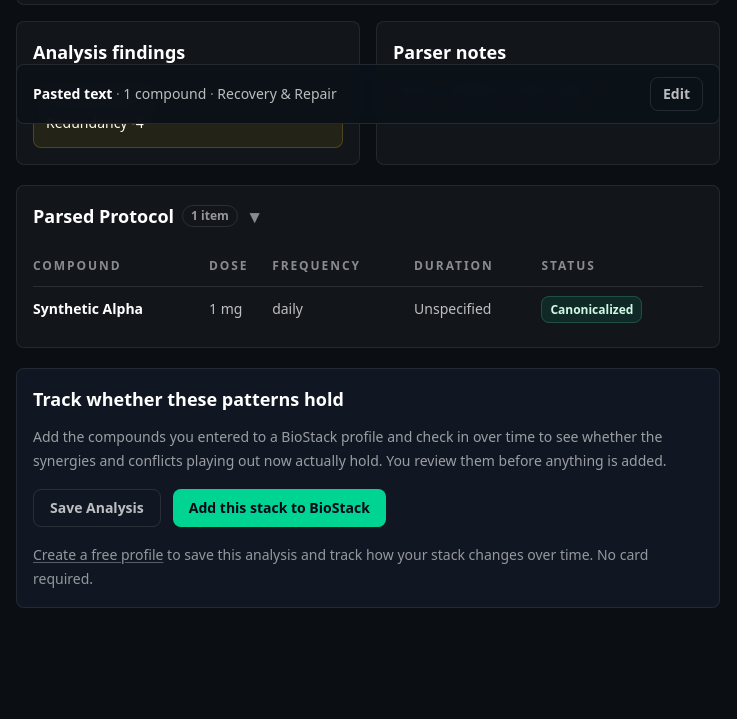
AnalyzerExperience › storage failure recovery › shows a retryable error when Save Analysis storage fails, keeping the report and skipping success telemetry
(page scrolled)
Click the button "Save Analysis". click: (97, 508)
box: 33,489 -> 161,527
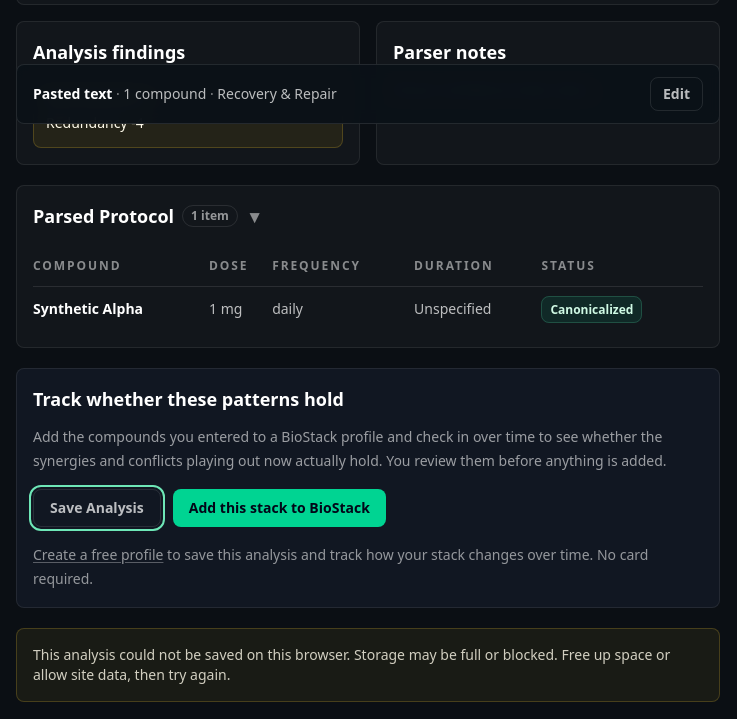
Expected: the text "Analysis saved locally" is not shown
Result: the message shows "could not be saved on this browser" at 33,645 -> 670,684
// Retry through the same control succeeds and clears the error.
Click the button "Save Analysis". click: (97, 508)
box: 33,489 -> 161,527
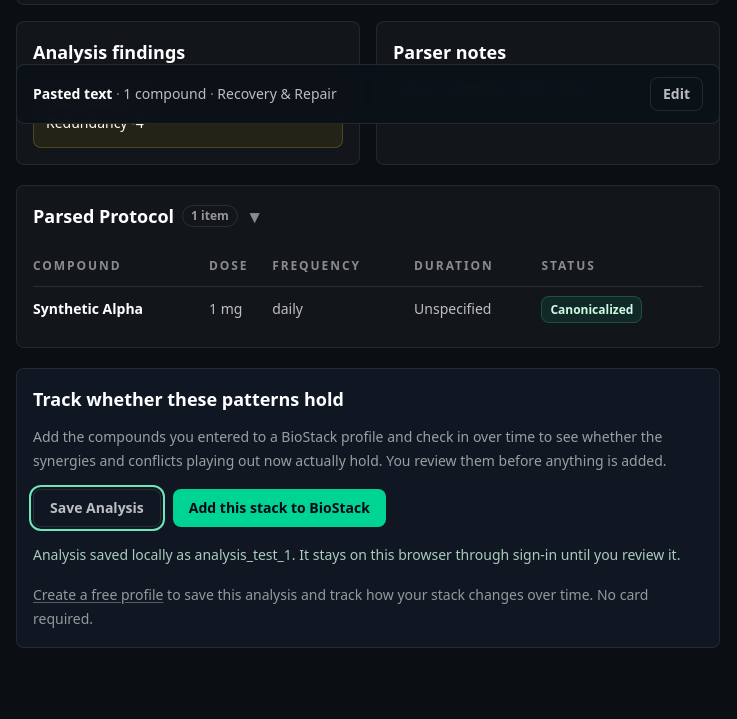
Result: the message is gone
Result: the text "Analysis saved locally as analysis_test_1" is shown at 33,543 -> 703,567
